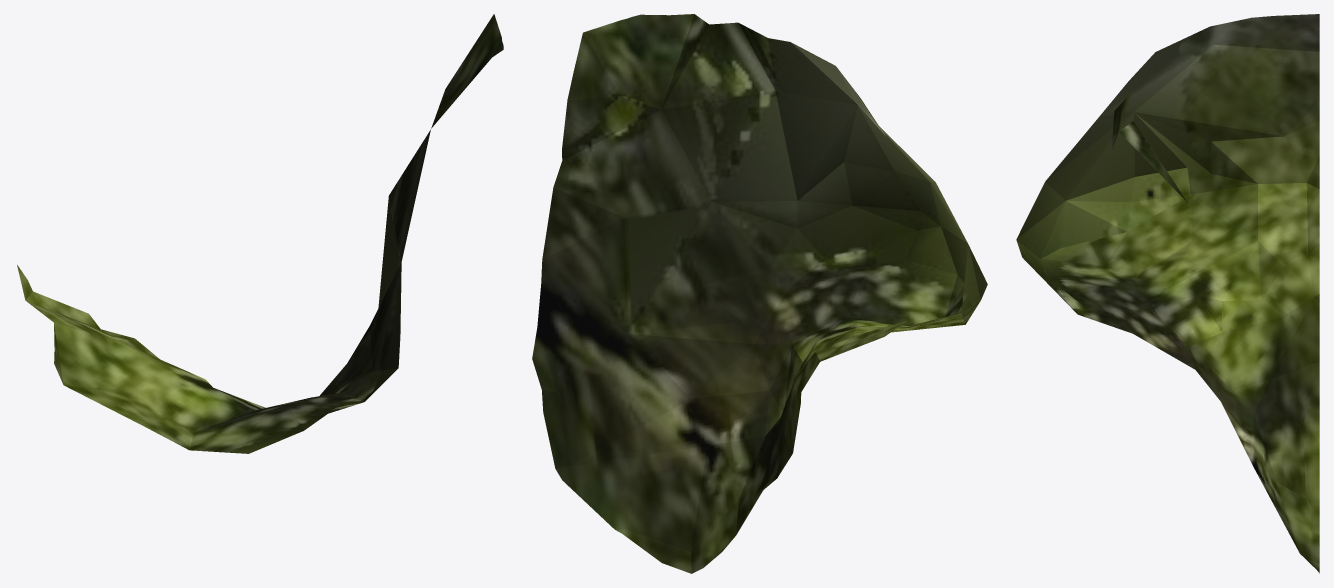
The picture shows the model from 3 angles, left to right: view 1: azimuth 30°, elevation 25°; view 2: azimuth 150°, elevation 25°; view 3: azimuth 270°, elevation 25°; orthographic projection. The views are drawn at different scales.
Size of the model in its own units: 1.46 by 1.7 by 0.9807.
Materials: 1 (1 with a texture image).
